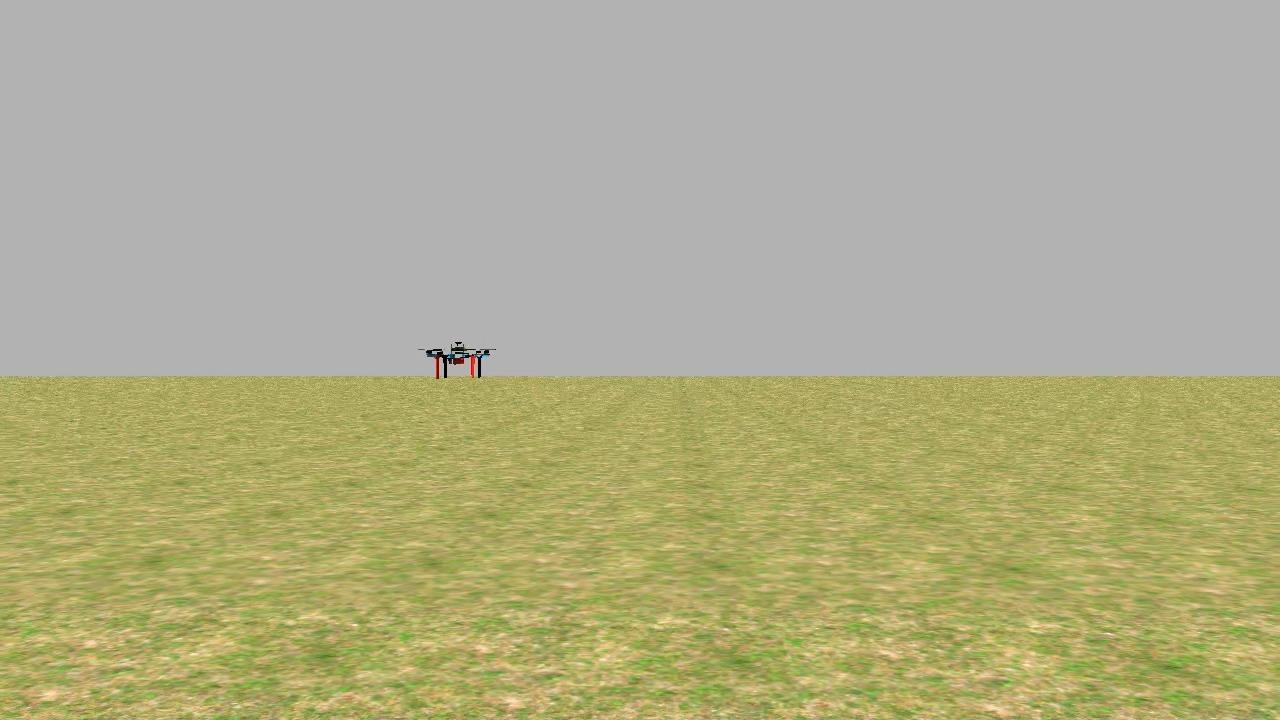UAV: (421, 340, 498, 388)
